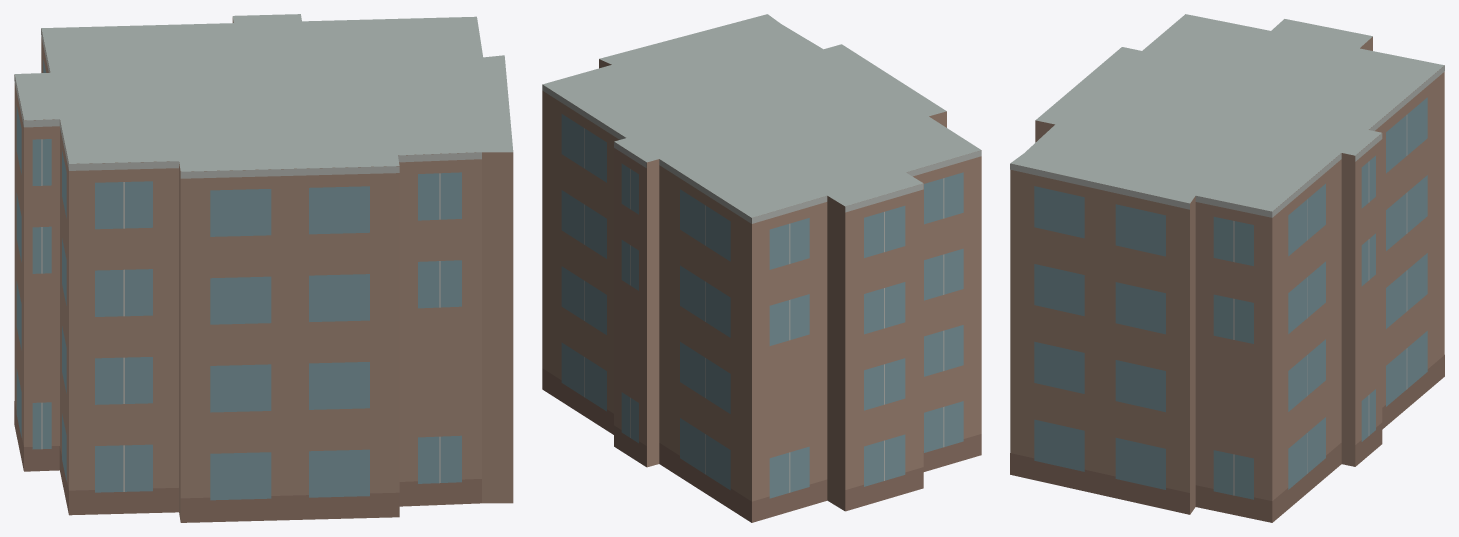
File: survey-upis-32891609.glb
3 renders of one model, left to right at view 1: azimuth 30°, elevation 25°; view 2: azimuth 150°, elevation 25°; view 3: azimuth 270°, elevation 25°, orthographic. The views are drawn at different scales.
Parts seen in each view (by area): view 1: survey-upis-32891609.tmp; view 2: survey-upis-32891609.tmp; view 3: survey-upis-32891609.tmp.
Boxes of the visible parts, left/top/right/bottom form: survey-upis-32891609.tmp: left=14, top=14, right=513, bottom=522; survey-upis-32891609.tmp: left=542, top=14, right=981, bottom=522; survey-upis-32891609.tmp: left=1010, top=14, right=1444, bottom=522.
Bounding box in the file's own units: 16.62 × 12.2 × 15.44.
